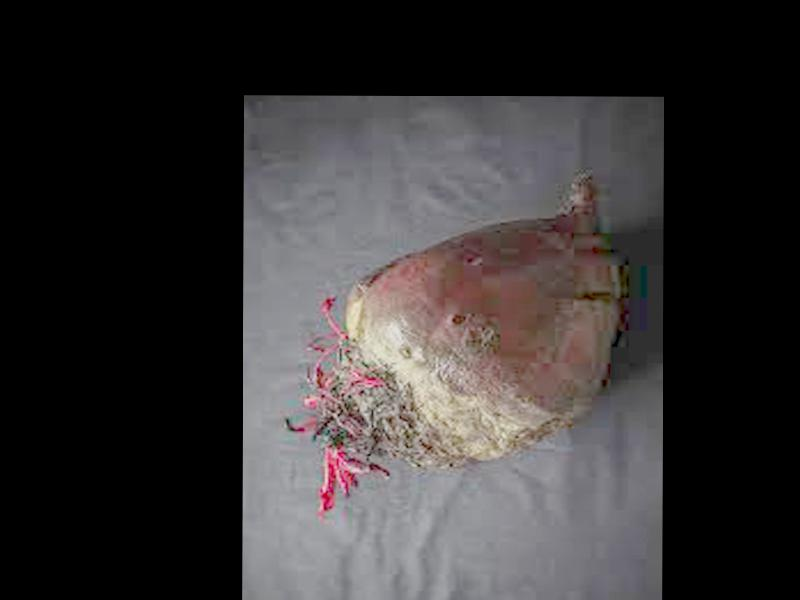Beet: (284, 170, 618, 519)
